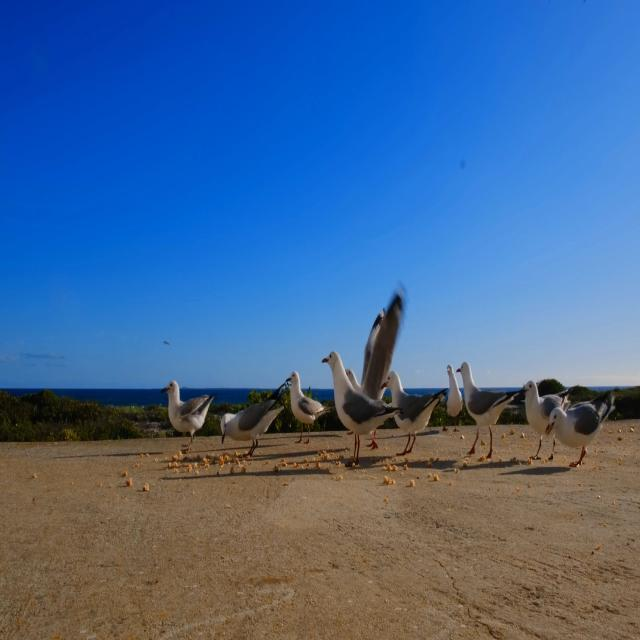bird: (312, 318, 396, 476), (384, 357, 445, 472), (456, 351, 519, 458), (214, 379, 283, 458), (545, 395, 622, 462), (158, 368, 214, 452), (280, 363, 332, 450), (519, 372, 559, 442), (443, 360, 464, 436)
